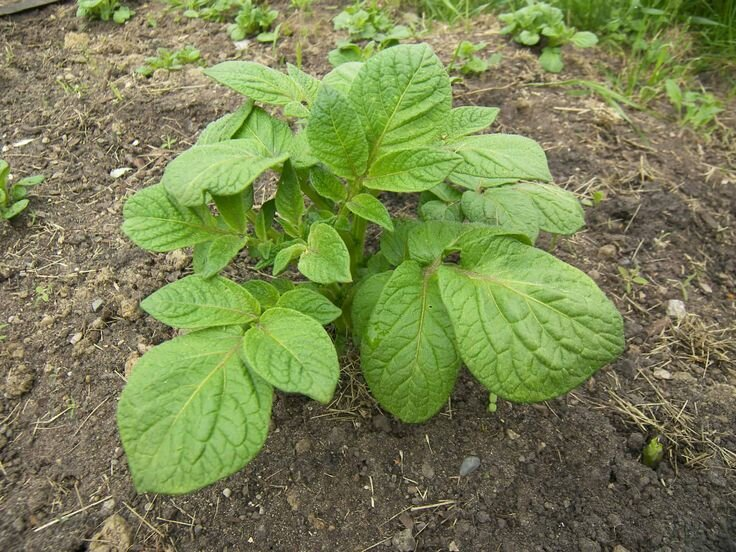potato_leaf: (434, 236, 627, 401), (117, 323, 274, 489), (361, 259, 462, 433), (247, 303, 344, 405), (304, 79, 370, 177), (139, 271, 260, 324), (365, 145, 465, 193), (206, 61, 301, 107), (293, 218, 355, 285)
potato_plant: (114, 41, 631, 493)
